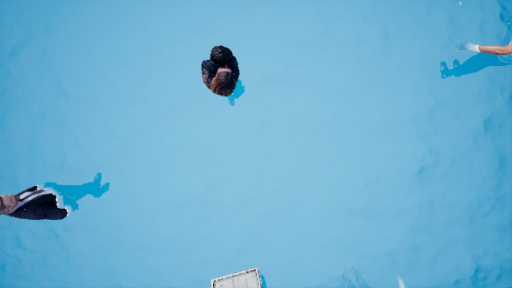person: (5, 177, 114, 225), (192, 45, 256, 105)
